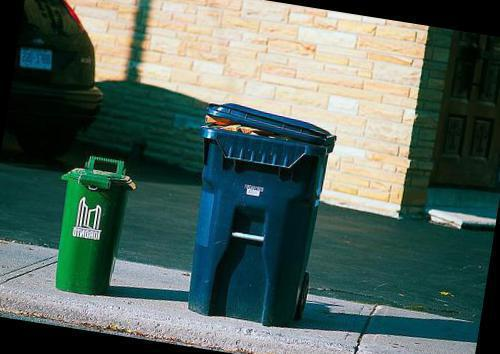Bote de Basura: (178, 101, 336, 325), (51, 152, 133, 295)
